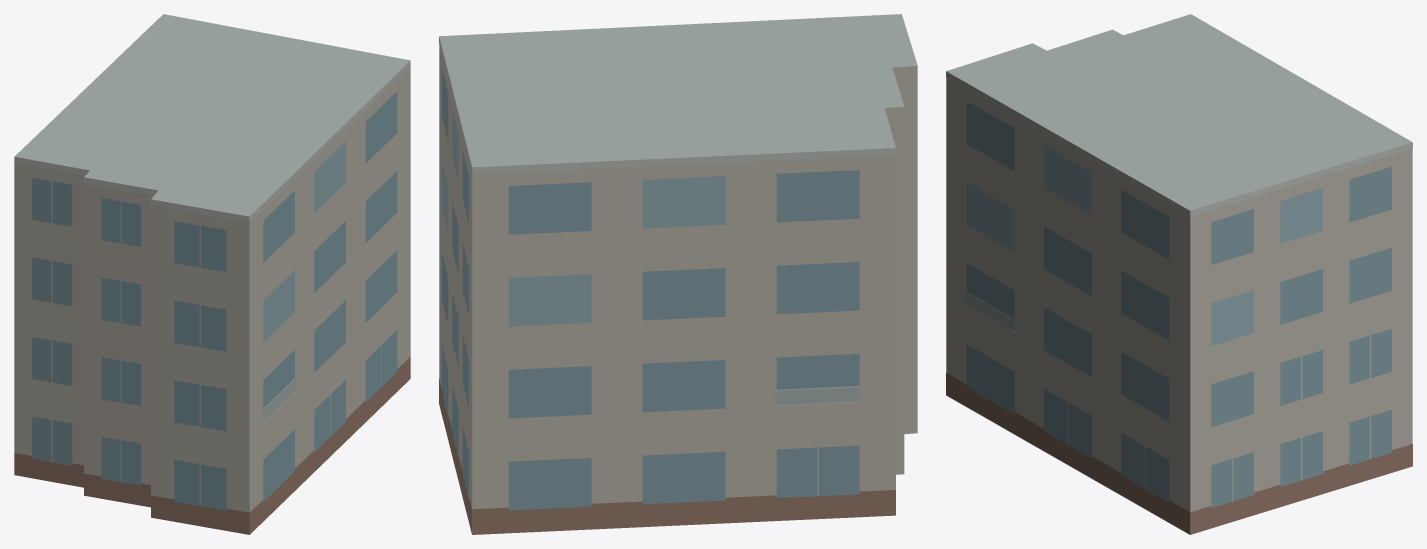
File: survey-upis-32799801.glb
The picture shows the model from 3 angles, left to right: view 1: azimuth 30°, elevation 25°; view 2: azimuth 150°, elevation 25°; view 3: azimuth 270°, elevation 25°; orthographic projection. The views are drawn at different scales.
Visible parts, largest first — view 1: survey-upis-32799801.tmp; view 2: survey-upis-32799801.tmp; view 3: survey-upis-32799801.tmp.
Boxes of the visible parts, x1,y1,x2,y2 form: survey-upis-32799801.tmp: (14,14,410,534); survey-upis-32799801.tmp: (439,14,917,534); survey-upis-32799801.tmp: (946,14,1412,534).
Size of the model in its own units: 16.67 by 12.8 by 16.71.
